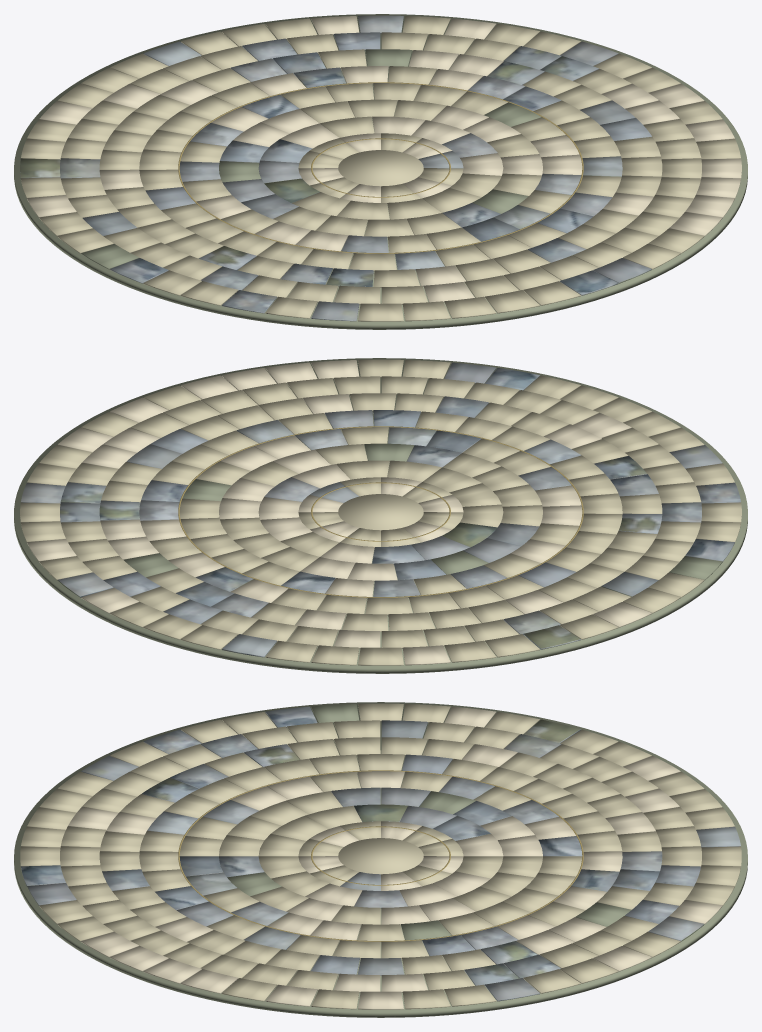
The model's file is SM_RB_Courtyard.fbx.
The picture shows the model from 3 angles, top to bottom: view 1: azimuth 30°, elevation 25°; view 2: azimuth 150°, elevation 25°; view 3: azimuth 270°, elevation 25°; orthographic projection.
Visible parts, largest first — view 1: SM_RB_Courtyard; view 2: SM_RB_Courtyard; view 3: SM_RB_Courtyard.
Part boxes in pixels (x1,y1,x2,y2): SM_RB_Courtyard: (14, 14, 747, 329); SM_RB_Courtyard: (14, 358, 747, 673); SM_RB_Courtyard: (14, 702, 747, 1017).
Size of the model in its own units: 12 by 12 by 0.122.
